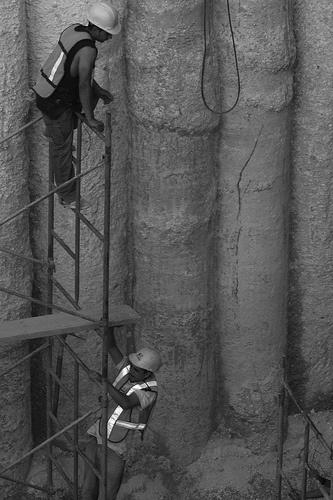Crack: (231, 119, 274, 310)
